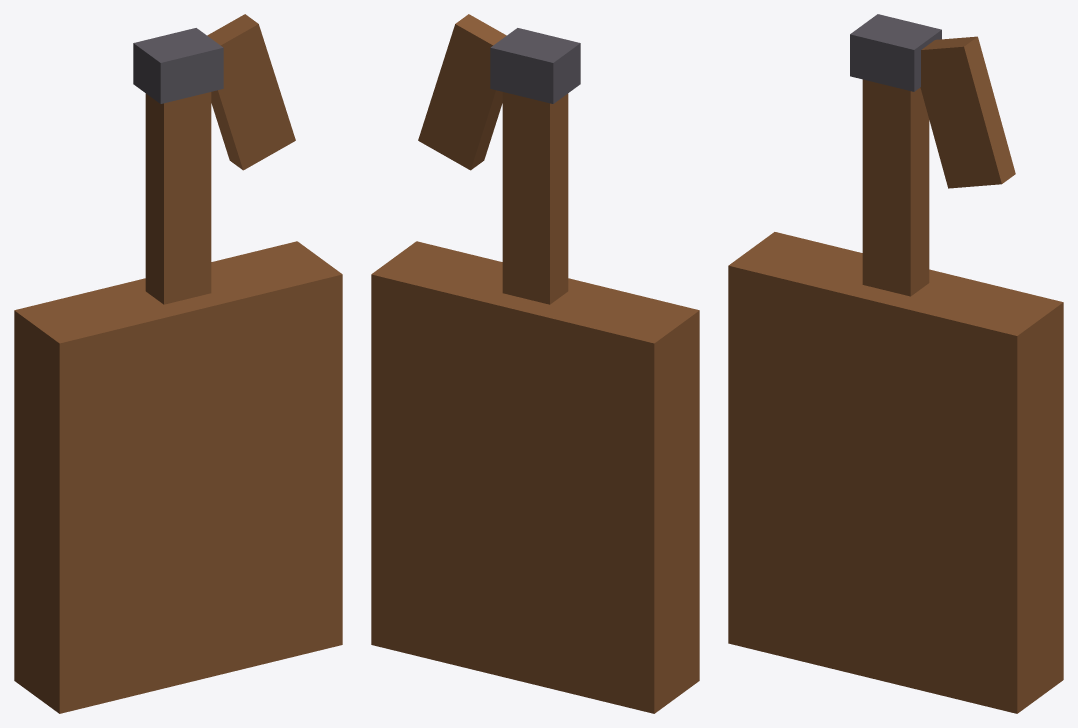
The model's file is broken-guitar.glb.
3 renders of one model, left to right at view 1: azimuth 30°, elevation 25°; view 2: azimuth 150°, elevation 25°; view 3: azimuth 330°, elevation 25°, orthographic. The views are drawn at different scales.
Parts seen in each view (by area): view 1: broken-guitar, headstock, tape; view 2: broken-guitar, headstock, tape; view 3: broken-guitar, headstock, tape.
Boxes of the visible parts, x1=… form: broken-guitar: x1=14, y1=92, x2=342, y2=713; headstock: x1=207, y1=14, x2=295, y2=170; tape: x1=133, y1=28, x2=223, y2=103; broken-guitar: x1=371, y1=92, x2=699, y2=713; headstock: x1=418, y1=14, x2=506, y2=170; tape: x1=490, y1=28, x2=580, y2=103; broken-guitar: x1=728, y1=79, x2=1063, y2=713; headstock: x1=920, y1=36, x2=1015, y2=188; tape: x1=850, y1=14, x2=941, y2=91.
Size of the model in its own units: 0.36 by 0.7603 by 0.1.
